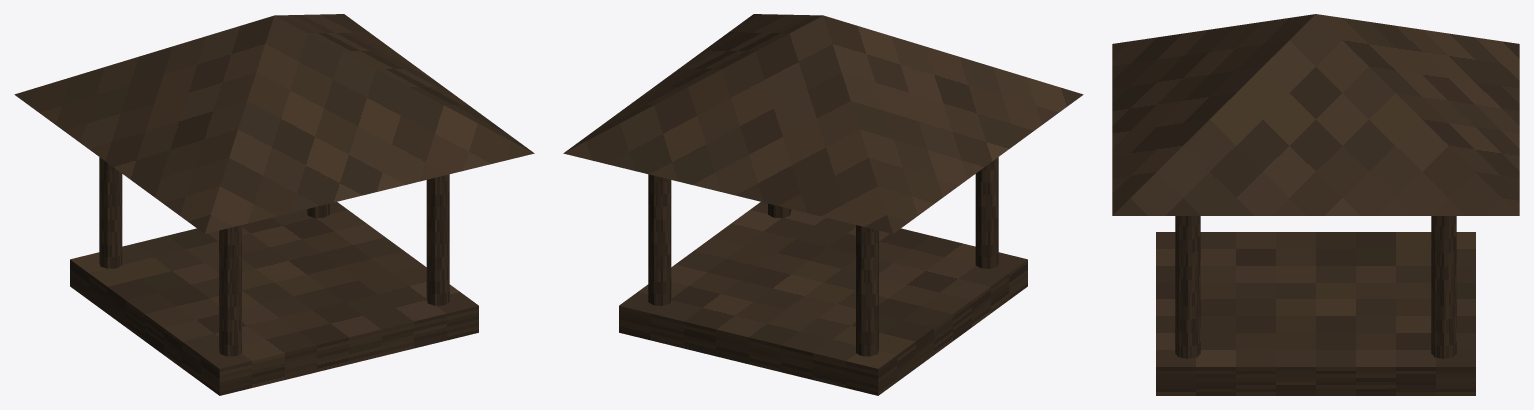
Rendered from pavilion_28.glb.
3 views of the same model, side by side, from view 1: azimuth 30°, elevation 25°; view 2: azimuth 150°, elevation 25°; view 3: azimuth 270°, elevation 25° (orthographic). The views are drawn at different scales.
Parts seen in each view (by area): view 1: Roof, Floor, Column.002, Column, Column.001; view 2: Roof, Floor, Column.003, Column.001, Column; view 3: Roof, Floor, Column.002, Column.003.
Boxes of the visible parts, x1,y1,x2,y2 form: Roof: (14,14,534,233); Floor: (70,202,478,395); Column.002: (426,174,449,305); Column: (219,225,241,356); Column.001: (99,157,122,268); Roof: (563,14,1083,233); Floor: (619,202,1027,395); Column.003: (648,174,671,305); Column.001: (856,225,878,356); Column: (975,157,998,268); Roof: (1112,14,1519,215); Floor: (1156,232,1475,395); Column.002: (1175,216,1200,358); Column.003: (1431,216,1456,358).
Size of the model in its own units: 3.84 by 3.27 by 3.84.
Materials: 1 (1 with a texture image).
